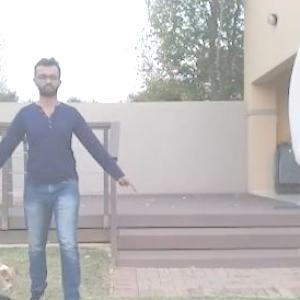land: (0, 69, 124, 299)
